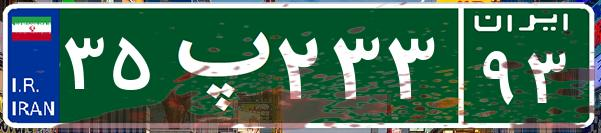2: (273, 28, 330, 110)
3: (385, 28, 445, 110), (330, 28, 385, 110), (57, 26, 110, 107), (525, 38, 570, 115)
5: (110, 28, 158, 105)
9: (475, 38, 525, 113)
پ: (158, 15, 273, 115)
